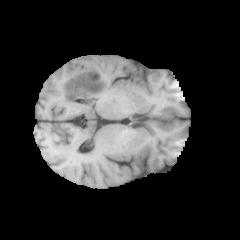glioma: (60, 65, 109, 103)
